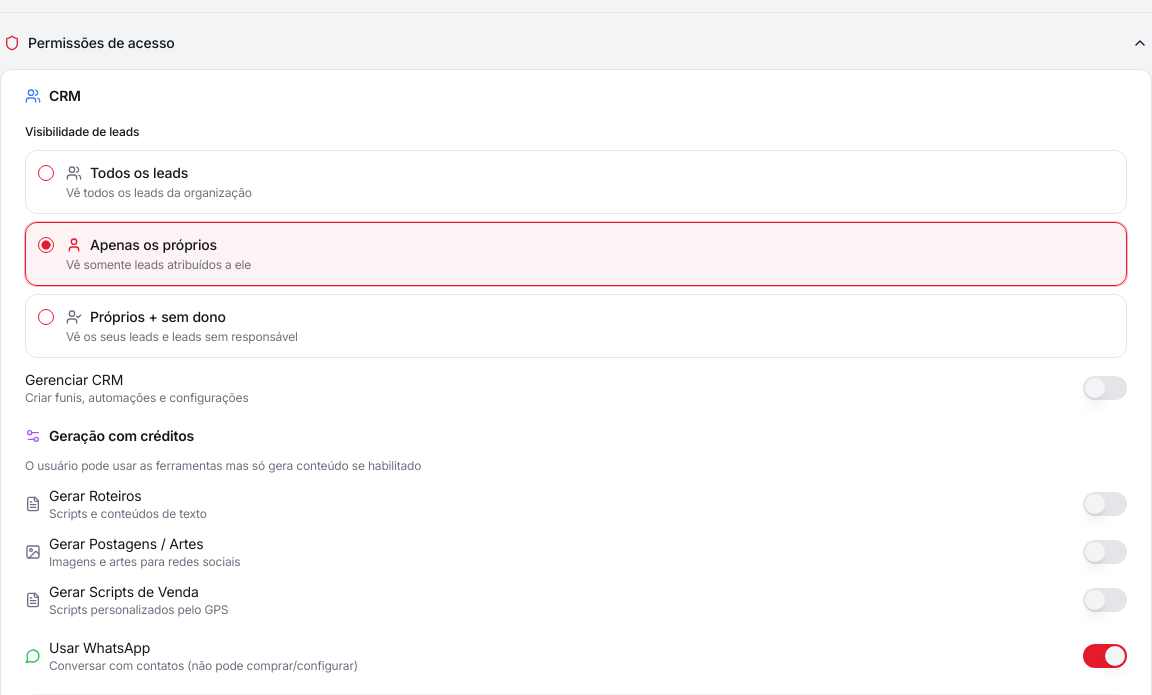
MemberPermissionsEditor › exibe label de visibilidade CRM no badge quando colapsado
Colapsa clicando
Click the button "Permissões de acesso" at {"x": 101, "y": 42}, box [0, 25, 1151, 61]
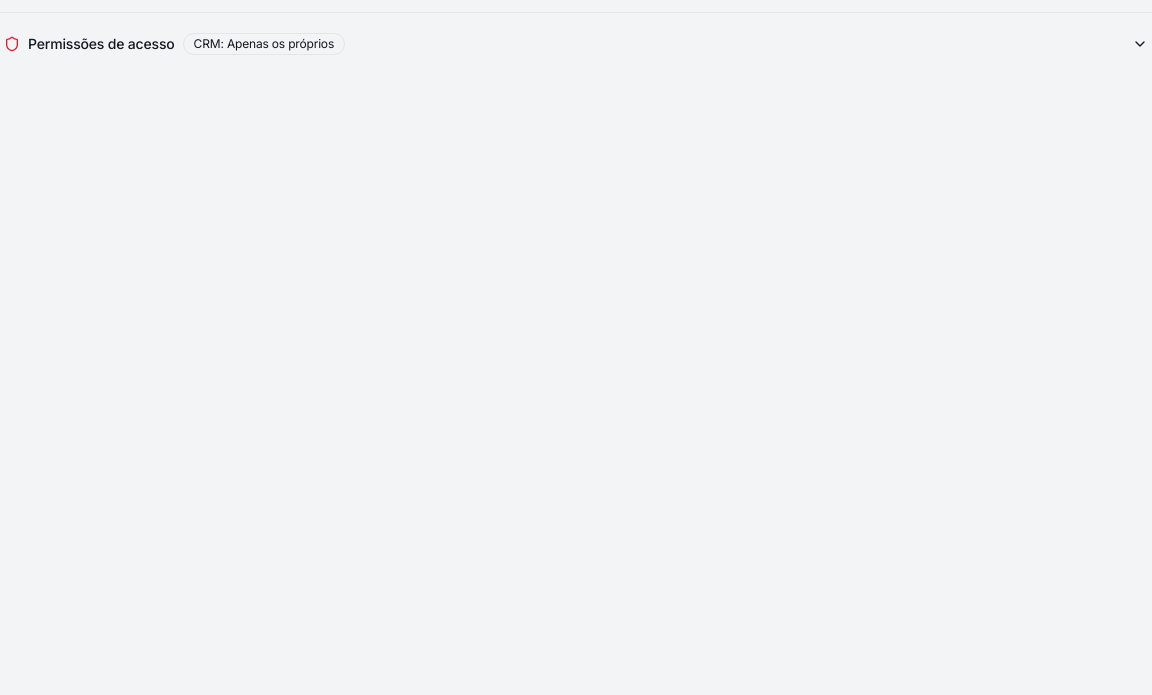
Now the text "CRM: Apenas os próprios" is shown, box [183, 33, 345, 55]
